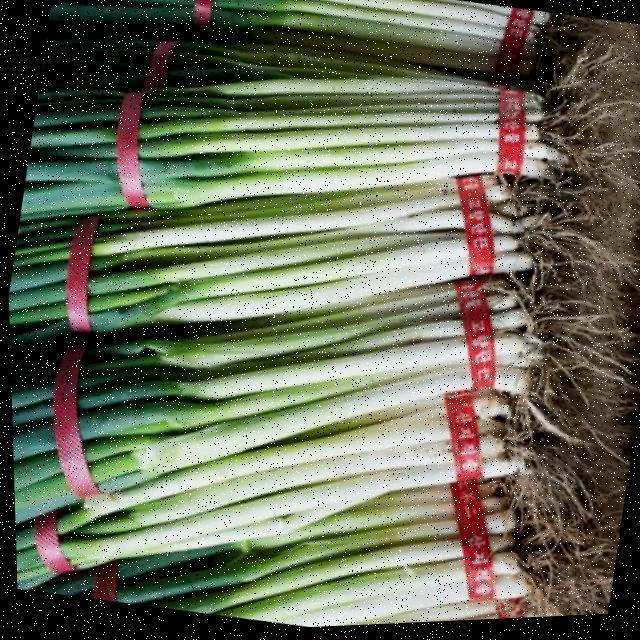green_onion: (2, 338, 474, 553), (0, 51, 575, 199), (24, 62, 536, 162), (0, 237, 518, 335), (4, 150, 505, 240), (160, 494, 522, 614), (86, 308, 476, 376)
